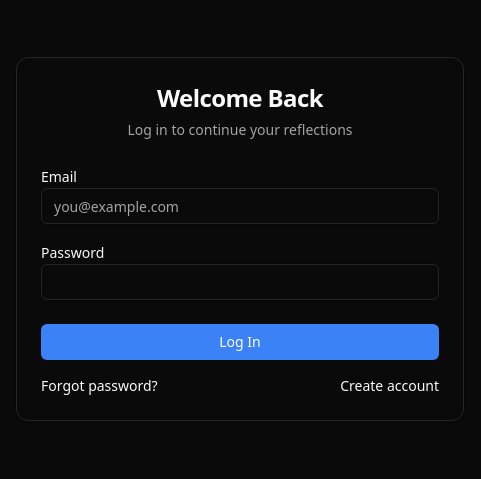
Test case: LoginPage › shows rate limit message
The image size is (481, 479).
Type "test@example.com" into the field labelled "Email".
click(240, 206); type("test@example.com")  # box [41,188,439,224]
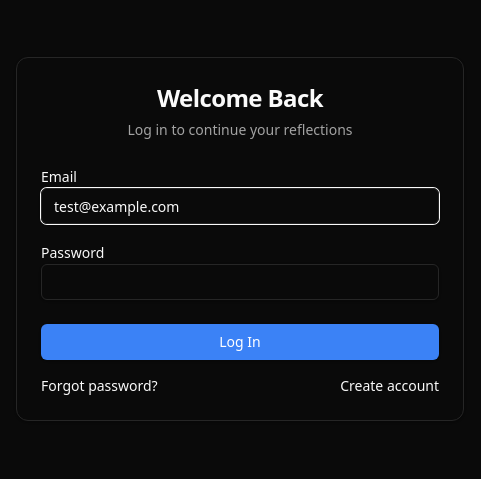
Type "password123" into the password field labelled "Password".
click(240, 282); type("password123")  # box [41,264,439,300]
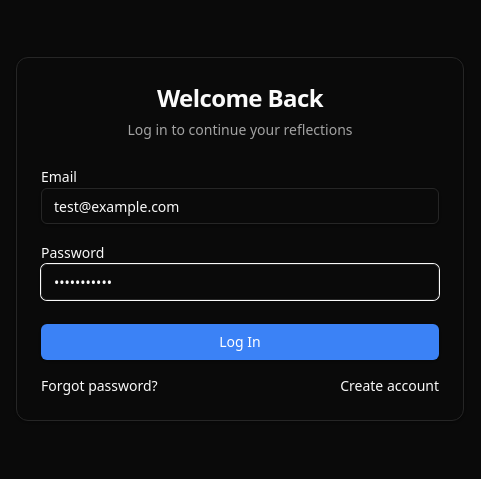
Click the button "Log In".
click(240, 342)  # box [41,324,439,360]
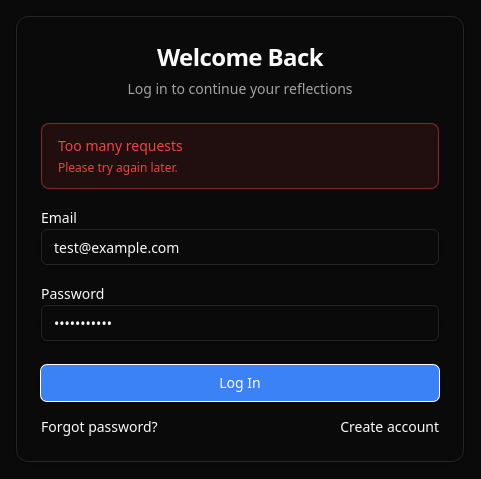
Check: the text "Please try again later." is shown, box [58,159,178,176]
